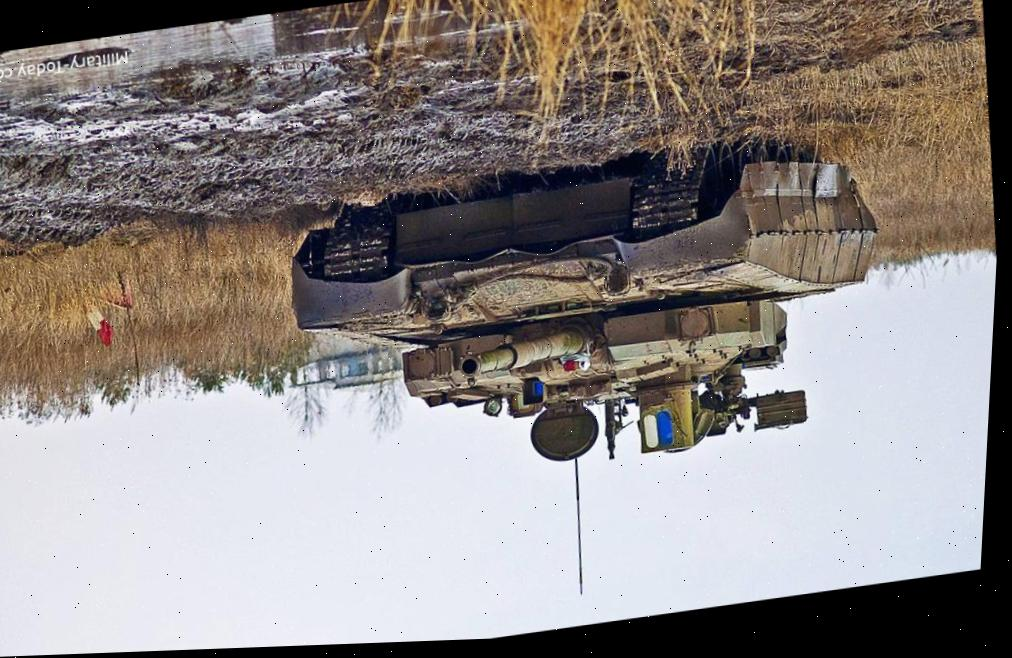tank: (269, 117, 904, 506)
